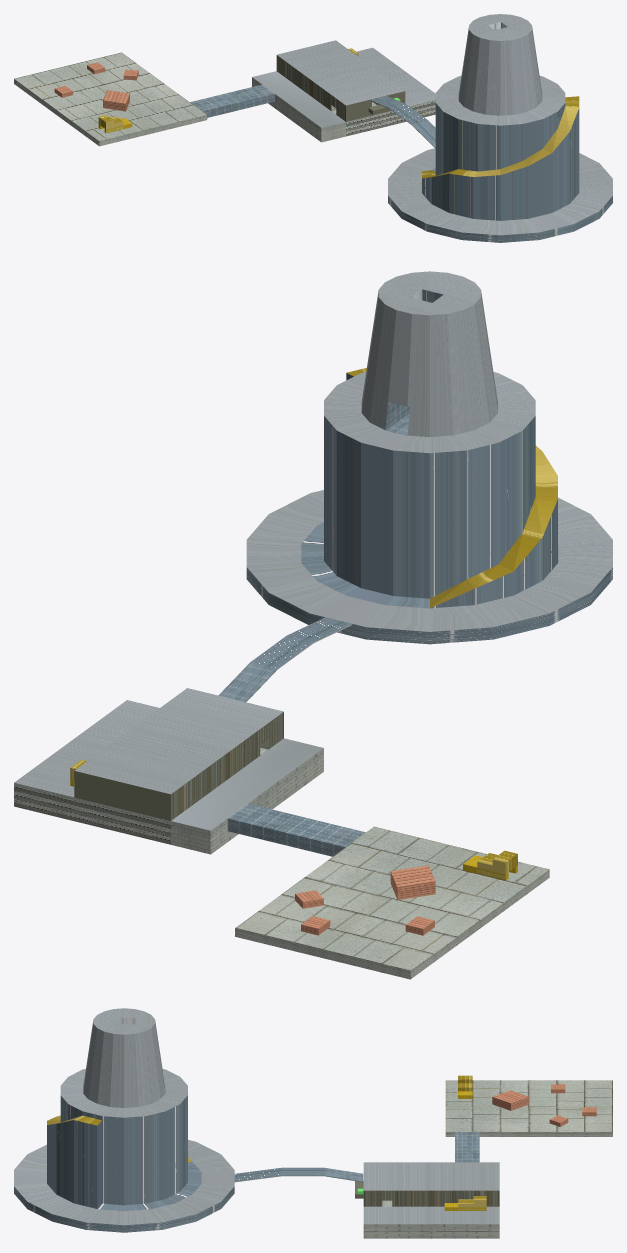
The model's file is gameStage01.FBX.
3 renders of one model, top to bottom at view 1: azimuth 30°, elevation 25°; view 2: azimuth 150°, elevation 25°; view 3: azimuth 270°, elevation 25°, orthographic. The views are drawn at different scales.
Parts seen in each view (by area): view 1: Ground03, Ground02, Ground01, BridgeBox01, BridgeBox02, Box01, StepBox01; view 2: Ground03, Ground02, Ground01, BridgeBox01, BridgeBox02, Box01, StepBox01; view 3: Ground03, Ground02, Ground01, BridgeBox02, BridgeBox01, Box01, StepBox02, StepBox01.
Boxes of the visible parts, bbox=[...] form: Ground03: bbox=[388, 14, 612, 242]; Ground02: bbox=[252, 40, 435, 142]; Ground01: bbox=[14, 52, 207, 146]; BridgeBox01: bbox=[190, 84, 274, 117]; BridgeBox02: bbox=[370, 96, 435, 147]; Box01: bbox=[103, 90, 129, 111]; StepBox01: bbox=[98, 115, 132, 133]; Ground03: bbox=[246, 271, 612, 644]; Ground02: bbox=[14, 688, 323, 854]; Ground01: bbox=[235, 826, 549, 979]; BridgeBox01: bbox=[227, 803, 365, 856]; BridgeBox02: bbox=[218, 617, 352, 702]; Box01: bbox=[390, 865, 435, 900]; StepBox01: bbox=[463, 850, 517, 880]; Ground03: bbox=[14, 1008, 234, 1232]; Ground02: bbox=[355, 1162, 499, 1238]; Ground01: bbox=[445, 1080, 612, 1136]; BridgeBox02: bbox=[234, 1167, 363, 1182]; BridgeBox01: bbox=[455, 1132, 479, 1162]; Box01: bbox=[492, 1090, 529, 1110]; StepBox02: bbox=[444, 1196, 486, 1210]; StepBox01: bbox=[458, 1075, 472, 1098].
Bounding box in the file's own units: 15473 × 24346 × 8374.
Materials: 18 (18 with a texture image).
